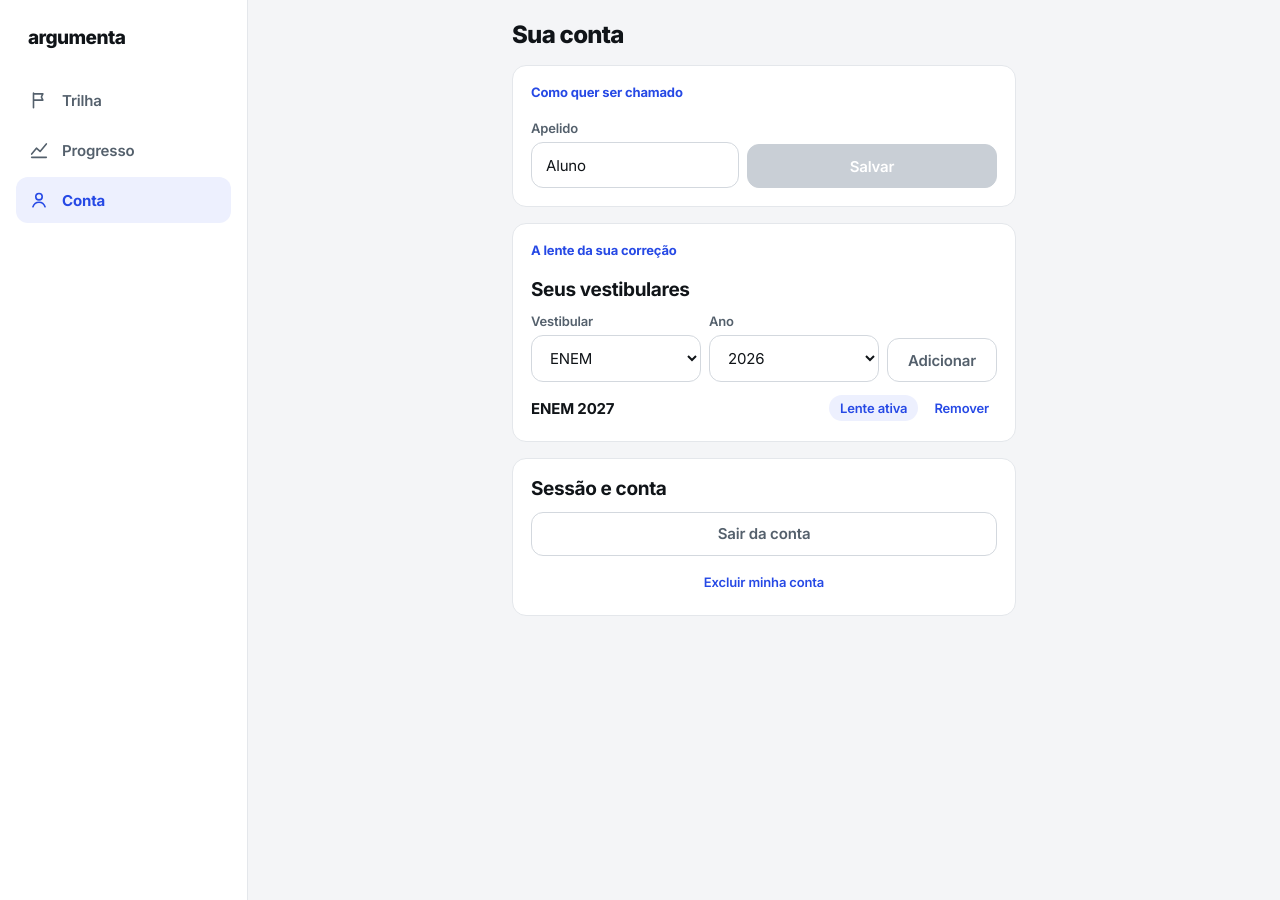
Test: Conta (a terceira aba) › o apelido é editável e diz que salvou
Replace the text in the field labelled "Apelido" with "Kauã" at (635, 165), box left=531, top=142, right=739, bottom=188
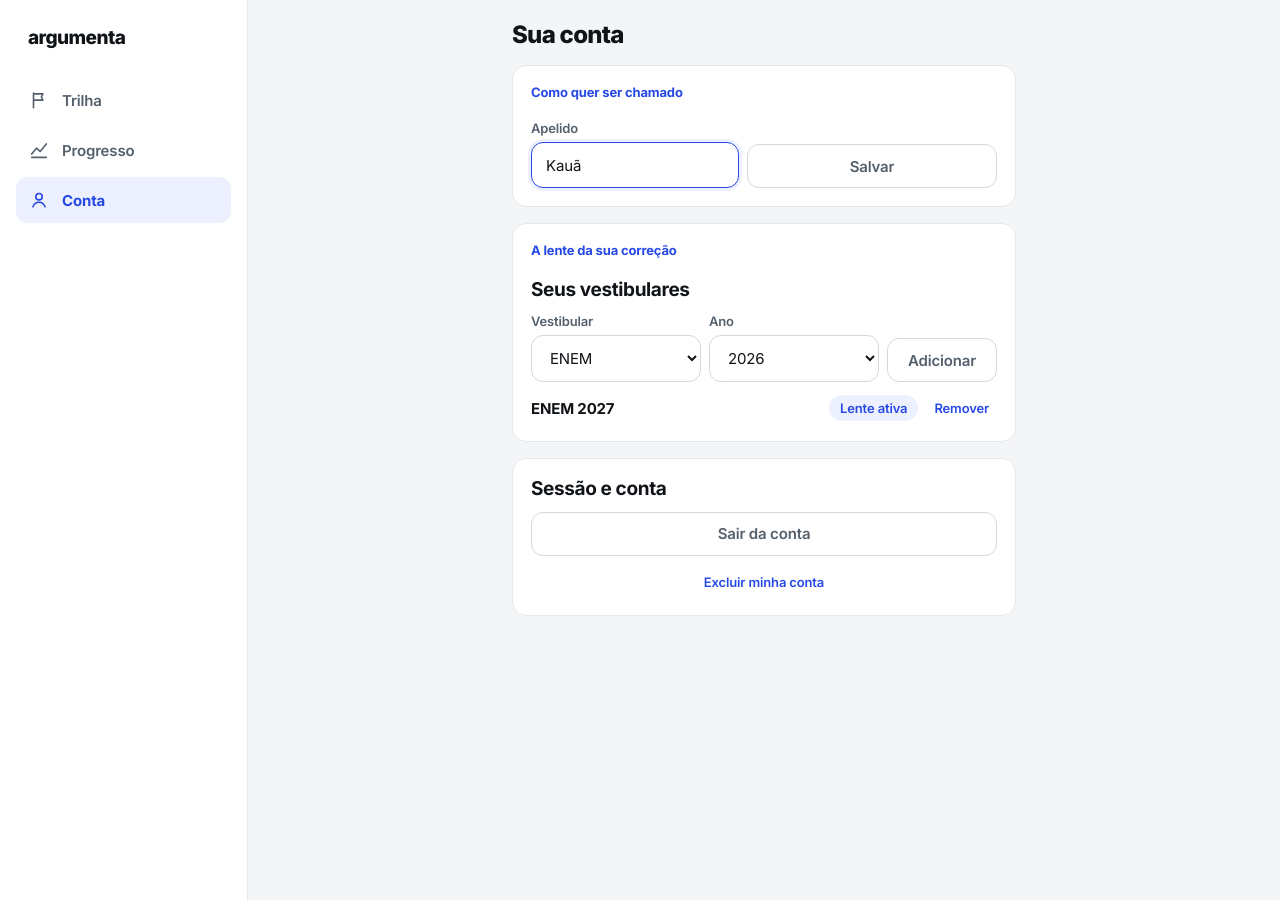
Click the button "Salvar".
click(872, 166)  # box left=747, top=144, right=997, bottom=188
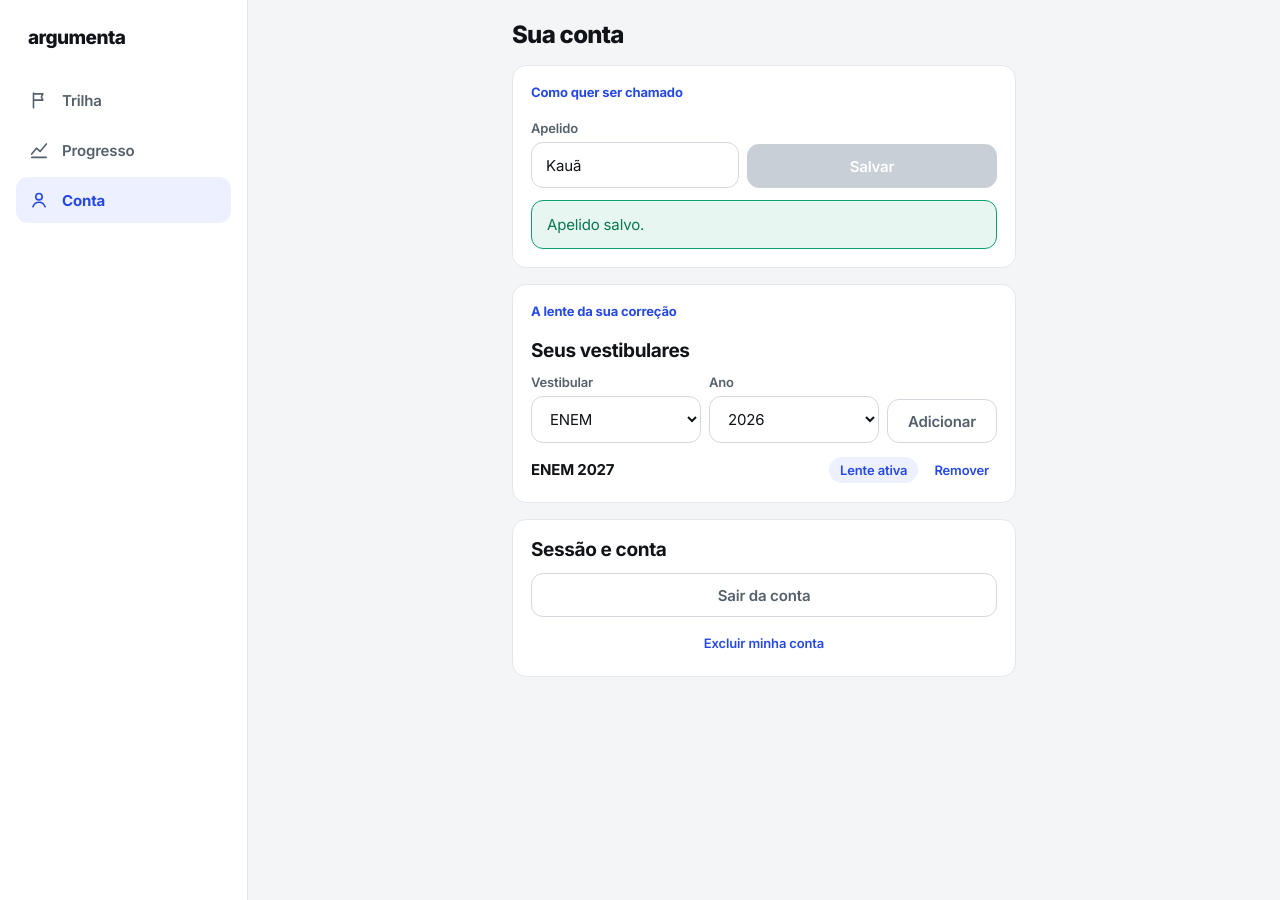
Now the text "Apelido salvo." is shown, box left=531, top=200, right=997, bottom=249
